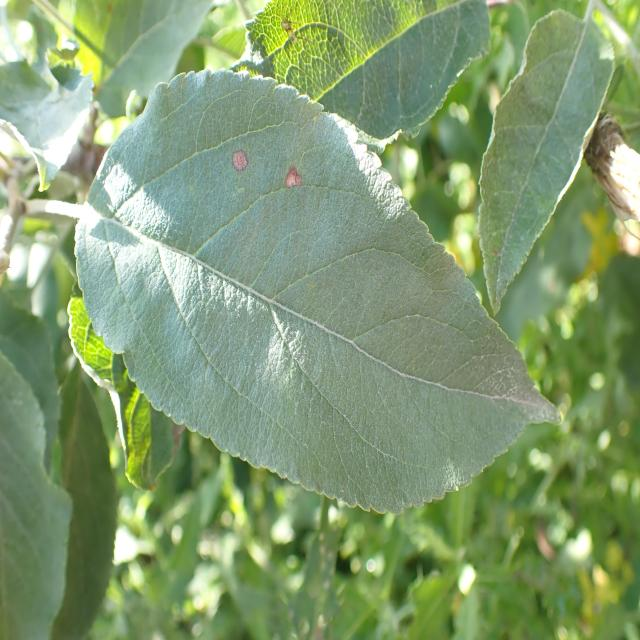Black Rot: (264, 141, 319, 216), (219, 124, 256, 198)
